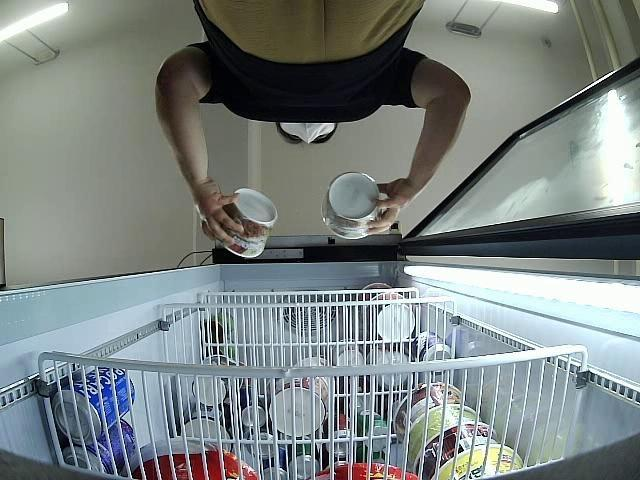03_chapagetti_L: (212, 188, 278, 259), (322, 174, 384, 242)
